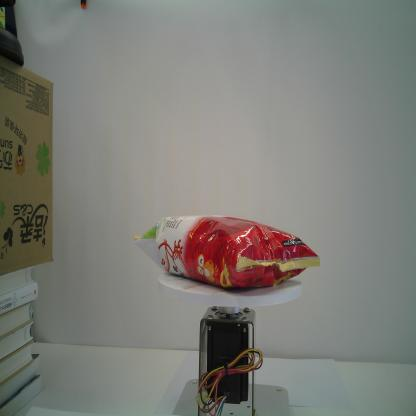Puffed Food: (131, 214, 321, 290)
